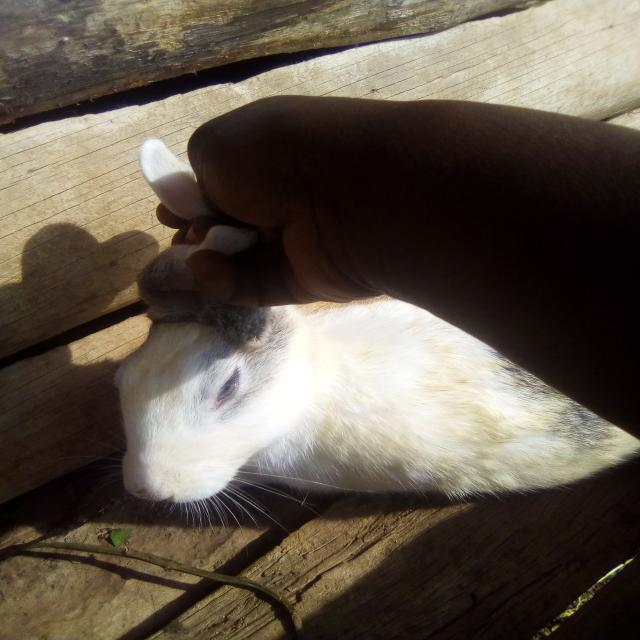rabbit: (64, 28, 611, 606)
